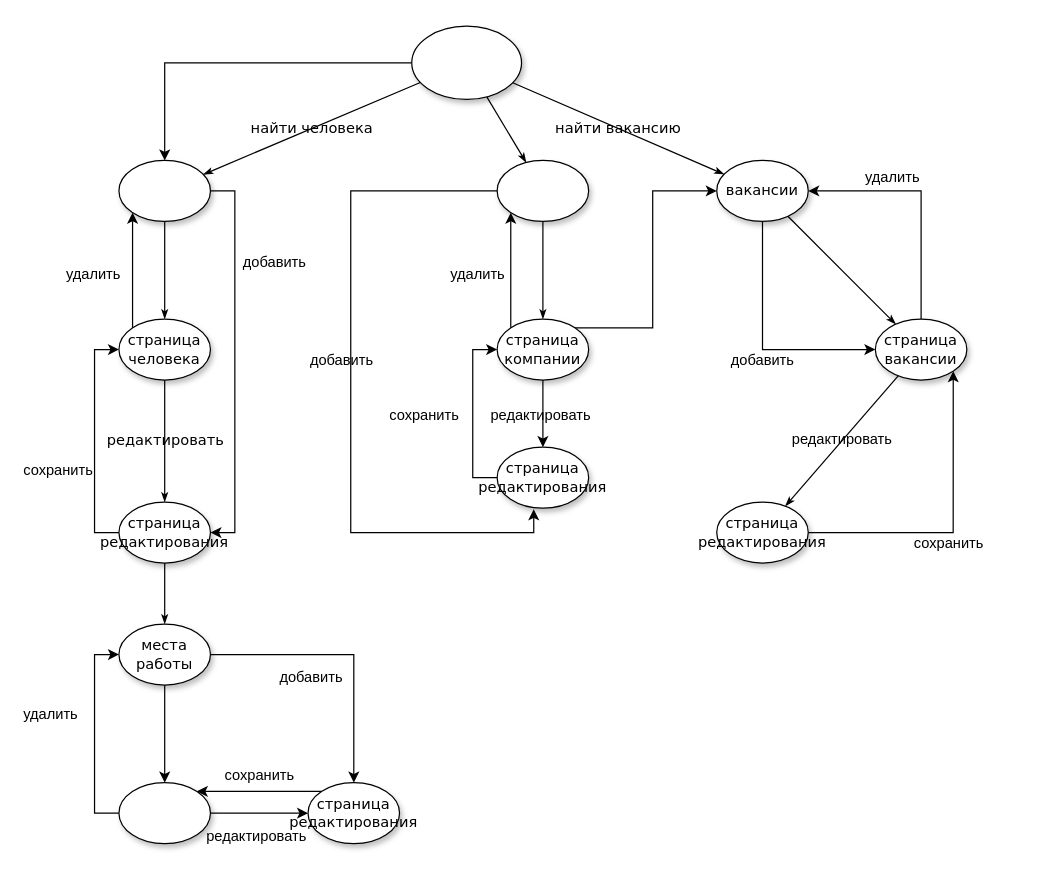
The diagram is 1042 pixels wide and 889 high, and some of its shapes have lost their labels. Here are the shapes that lost their labels. From the top down, the centre of each, then its label:
the point at 467,64: Главная
the point at 165,192: люди
the point at 543,192: компании
the point at 165,814: место работы
